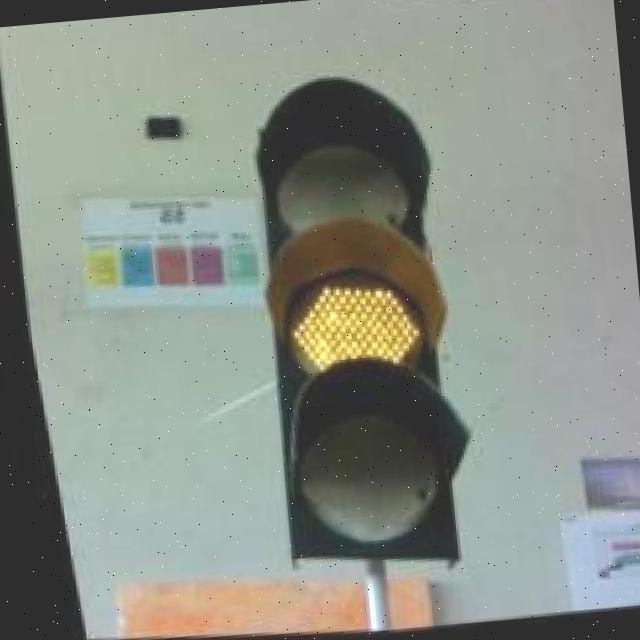yellow_light: (197, 59, 497, 579)
